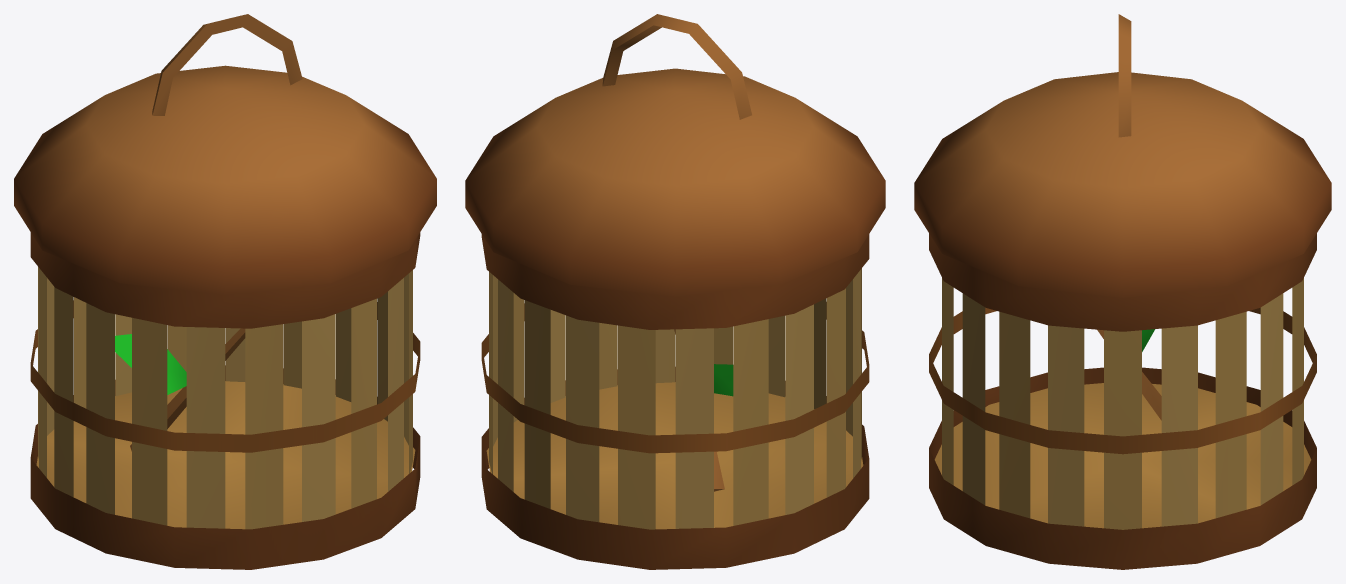
File: bug-cage.glb
The picture shows the model from 3 angles, left to right: view 1: azimuth 30°, elevation 25°; view 2: azimuth 150°, elevation 25°; view 3: azimuth 270°, elevation 25°; orthographic projection.
Visible parts, largest first — view 1: bug_cage, lid; view 2: bug_cage, lid; view 3: bug_cage, lid.
Part boxes in pixels (<box>): bug_cage: <box>30,232,420,569</box>; lid: <box>14,14,436,294</box>; bug_cage: <box>481,234,869,569</box>; lid: <box>465,14,885,296</box>; bug_cage: <box>929,233,1316,569</box>; lid: <box>914,14,1331,297</box>.
Size of the model in its own units: 0.17 by 0.2085 by 0.17.
